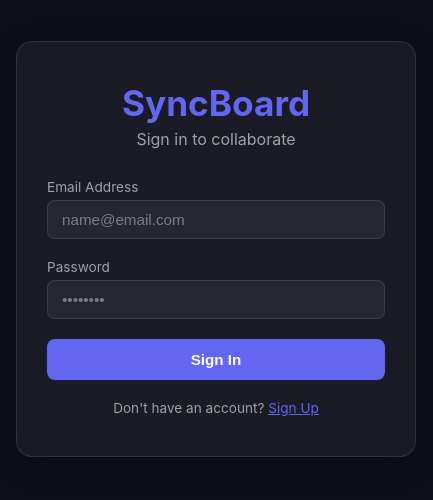
Test: Login Page Tests › shows error when login fails
Type "wrong@example.com" into the field with placeholder "name@email.com" at (216,220), box [47,200,385,239]
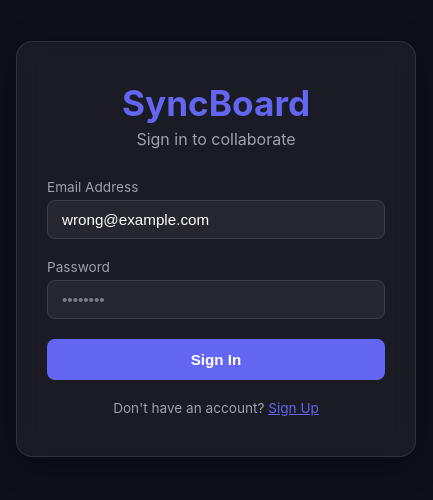
Type "wrongpassword" into the password field labelled "Password" at (216,300), box [47,280,385,319]
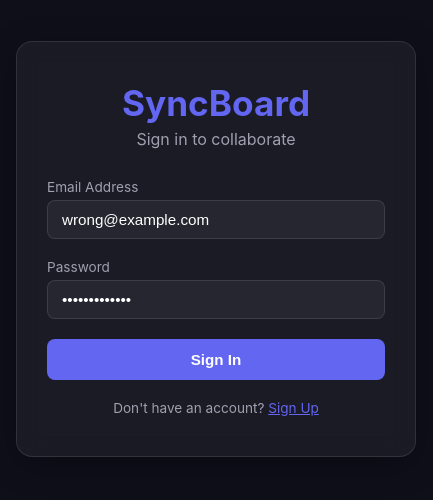
Click the button "Sign In" at (216,360), box [47,339,385,380]
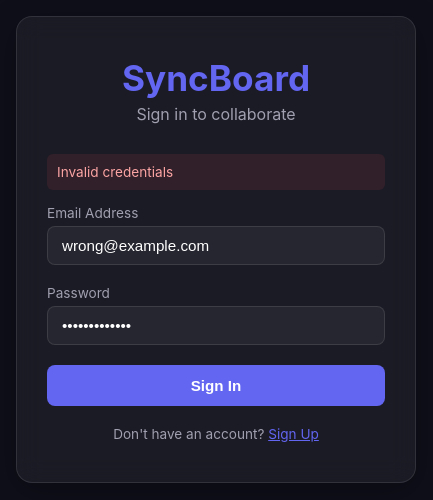
Check: the text "Invalid credentials" is shown, box [47,154,385,190]
